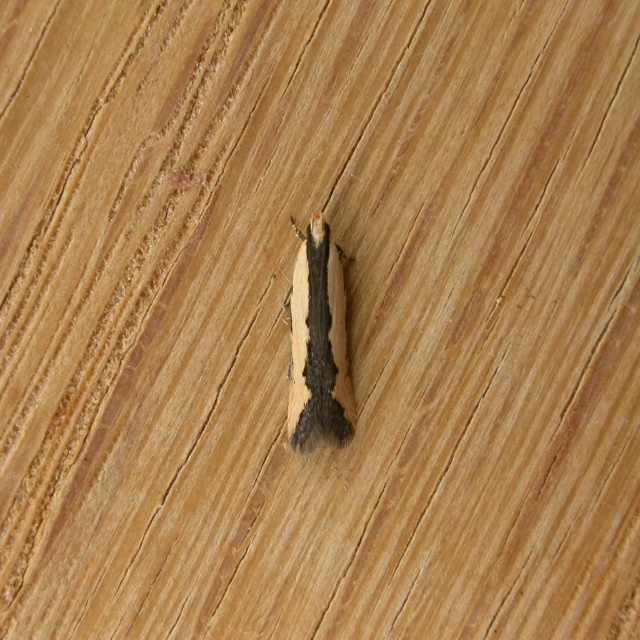Moths and butterflies: (286, 215, 356, 457)
